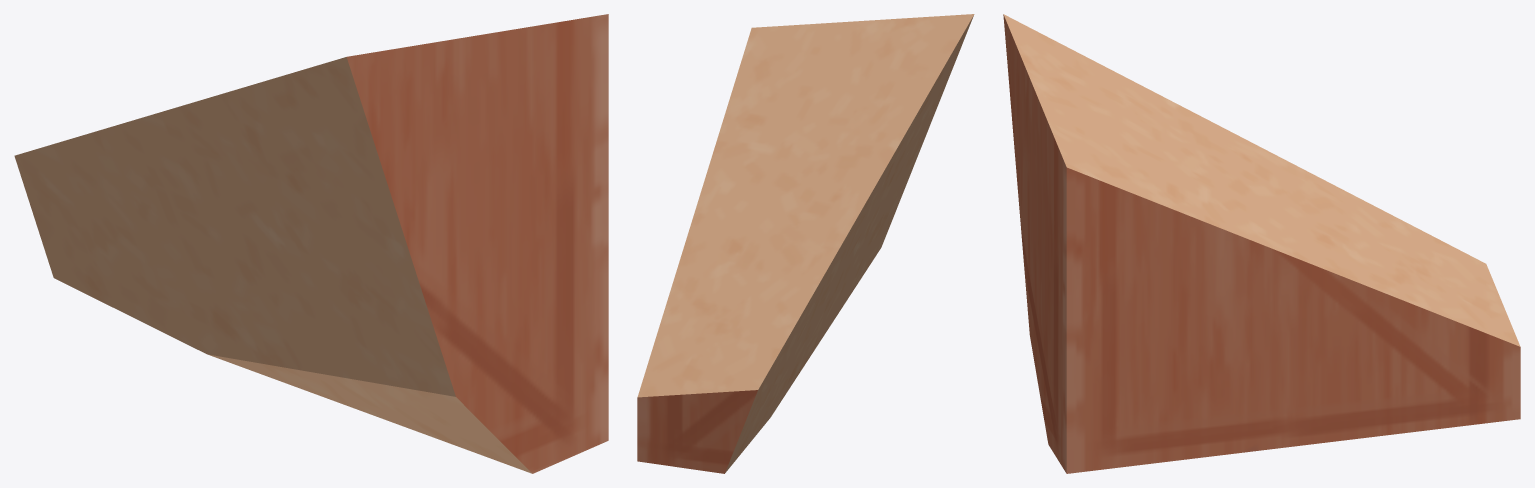
Rendered from stack_crates_s01.fbx.
3 views of the same model, side by side, from view 1: azimuth 30°, elevation 25°; view 2: azimuth 150°, elevation 25°; view 3: azimuth 270°, elevation 25° (orthographic). The views are drawn at different scales.
Visible parts, largest first — view 1: stack_crates_s01; view 2: stack_crates_s01; view 3: stack_crates_s01.
Part boxes in pixels (x1,y1,x2,y2): stack_crates_s01: (14, 14, 608, 473); stack_crates_s01: (637, 14, 974, 473); stack_crates_s01: (1003, 14, 1520, 473).
Bounding box in the file's own units: 1.63 × 2.51 × 3.32.
